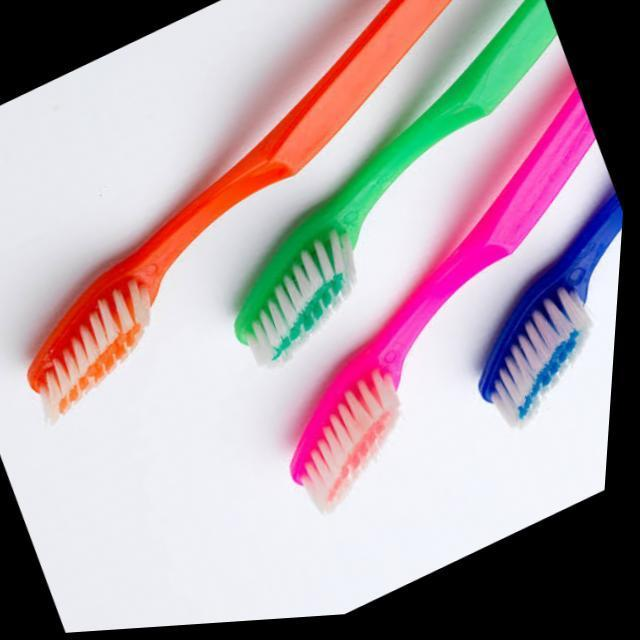toothbrush: (30, 0, 462, 416), (296, 88, 600, 512), (241, 0, 559, 374), (482, 196, 626, 429)
